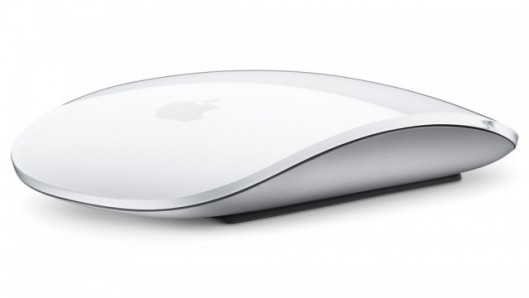Apple: (149, 86, 234, 137)
